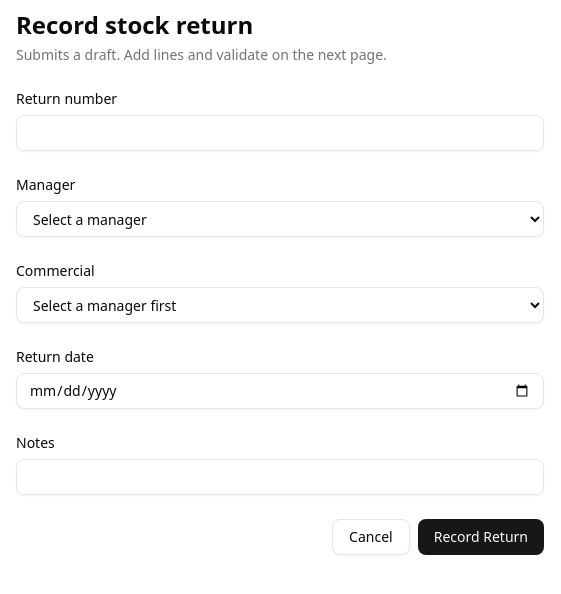
Test: manager -> commercial cascade › populates Commercial options scoped to the selected manager
This screenshot has width=561, height=594.
Step 1. Select "Youssef Bennani" in the dropdown labelled "Manager" → (280, 219), box [16,201,544,237]
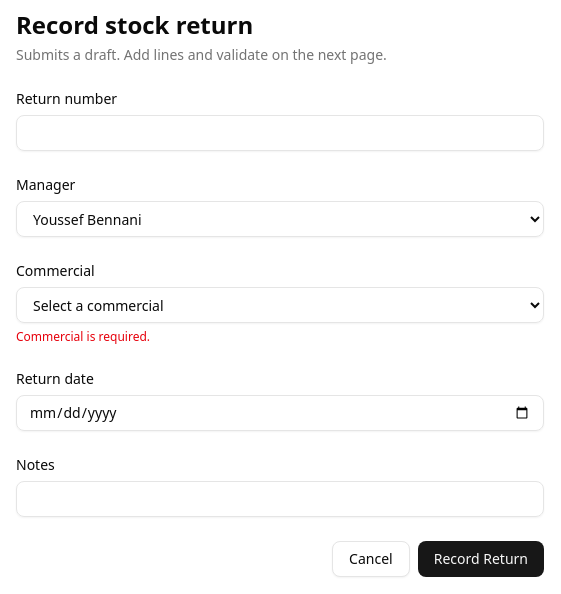
Expected: the dropdown labelled "Commercial" is enabled, [16,287,544,323]
